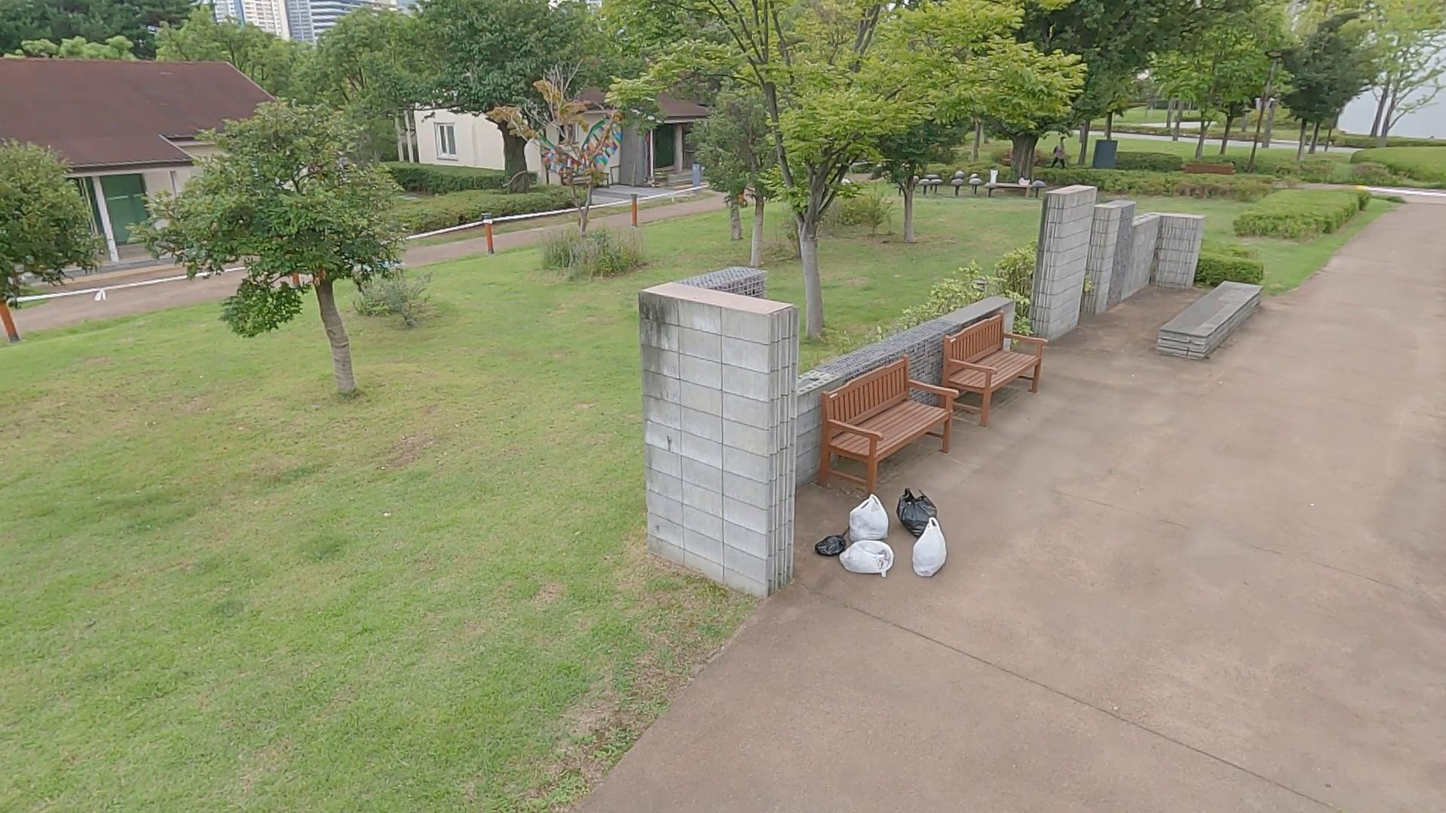trash: (909, 515, 950, 579), (838, 537, 895, 579), (847, 492, 893, 544), (896, 489, 939, 539), (813, 526, 851, 556)
